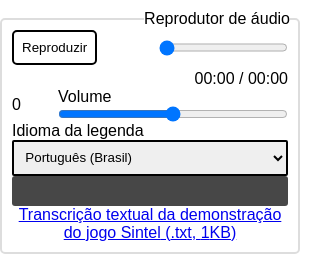
Test case: [Audio] - Conformidade com o eMAG › Deve alterar o texto do botão para Reproduzir ao clica-lo
Click the button "Reproduzir" at (55, 48), box x1=12 y1=30 x2=97 y2=65
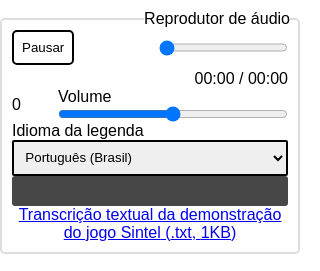
expect the button "Reproduzir" reads "Pausar": met, box x1=12 y1=30 x2=74 y2=65
